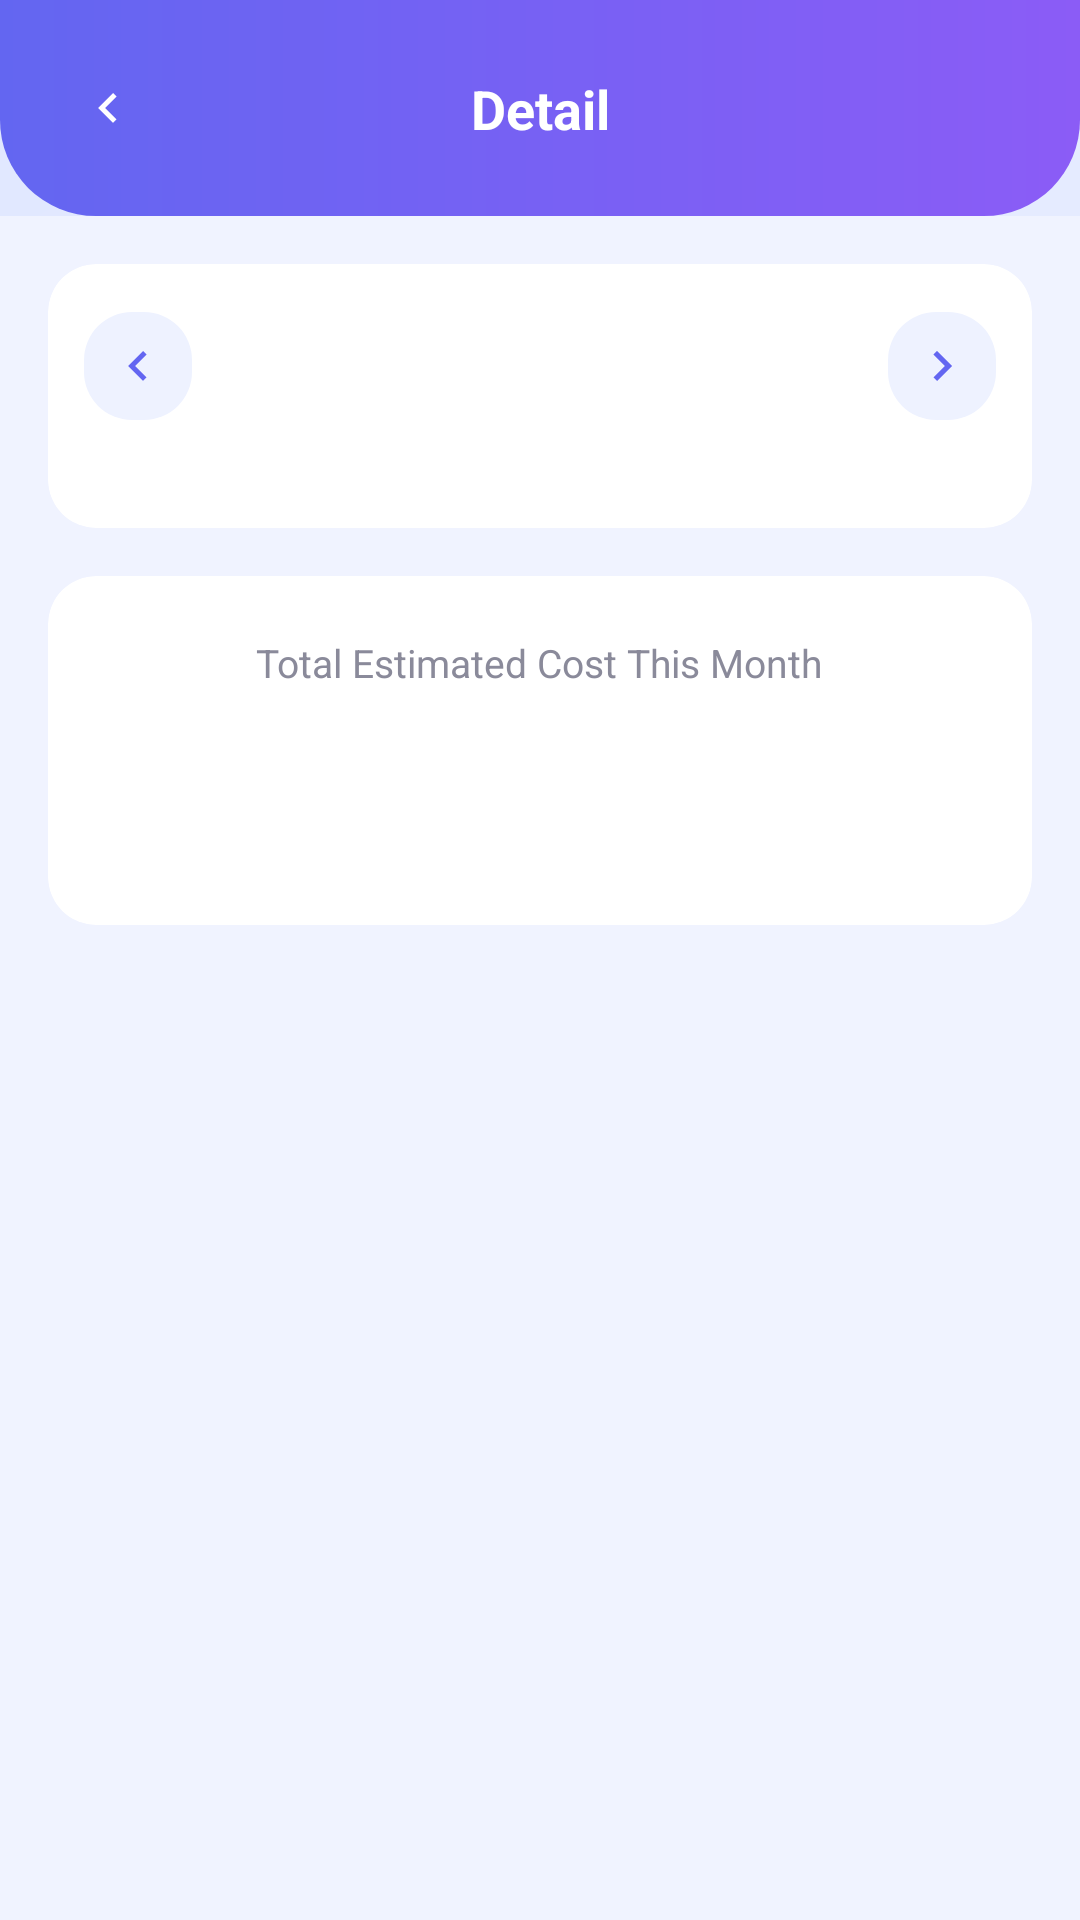

Where to tap for icons on this 1080×1920 app screen, as (x,y):
chevron left: (107,108)
Next Month: (942,366)
Previous Month: (138,366)
